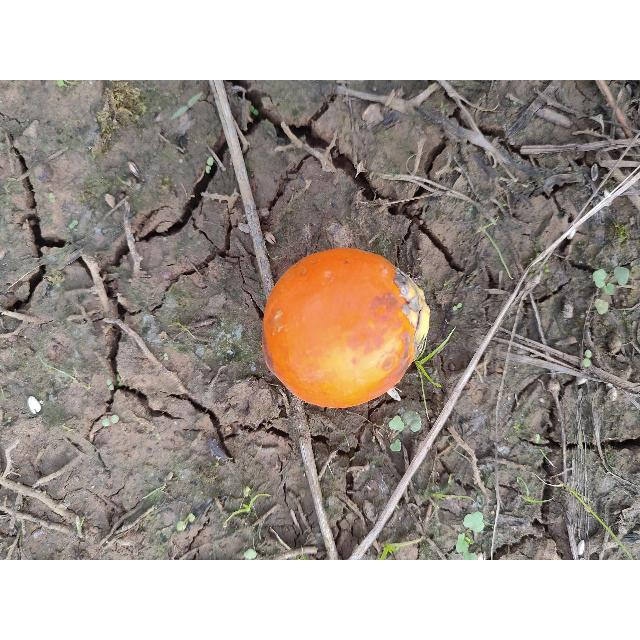good: (262, 248, 429, 410)
